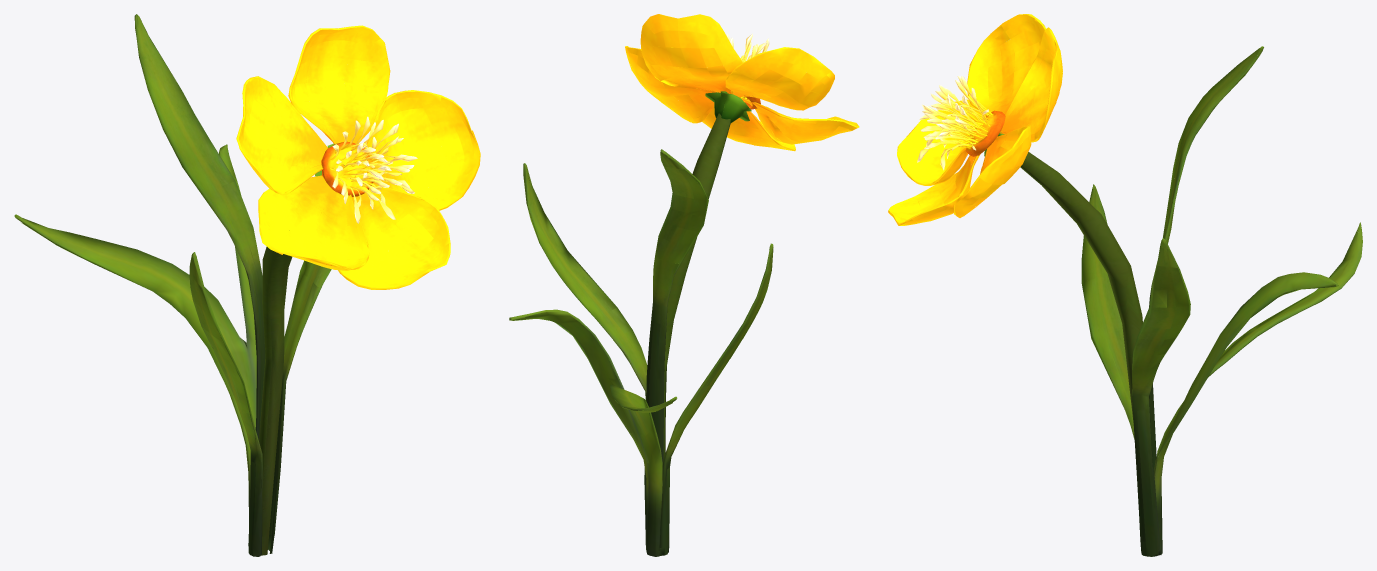
Rendered from floramarilla.glb.
The picture shows the model from 3 angles, left to right: view 1: azimuth 30°, elevation 25°; view 2: azimuth 150°, elevation 25°; view 3: azimuth 270°, elevation 25°; orthographic projection. The views are drawn at different scales.
Visible parts, largest first — view 1: Yellow Flower; view 2: Yellow Flower; view 3: Yellow Flower.
Part boxes in pixels (x1,y1,x2,y2): Yellow Flower: [14, 14, 480, 556]; Yellow Flower: [509, 14, 859, 556]; Yellow Flower: [888, 14, 1362, 556].
Size of the model in its own units: 0.2845 by 0.5509 by 0.4511.
Materials: 1 (1 with a texture image).
